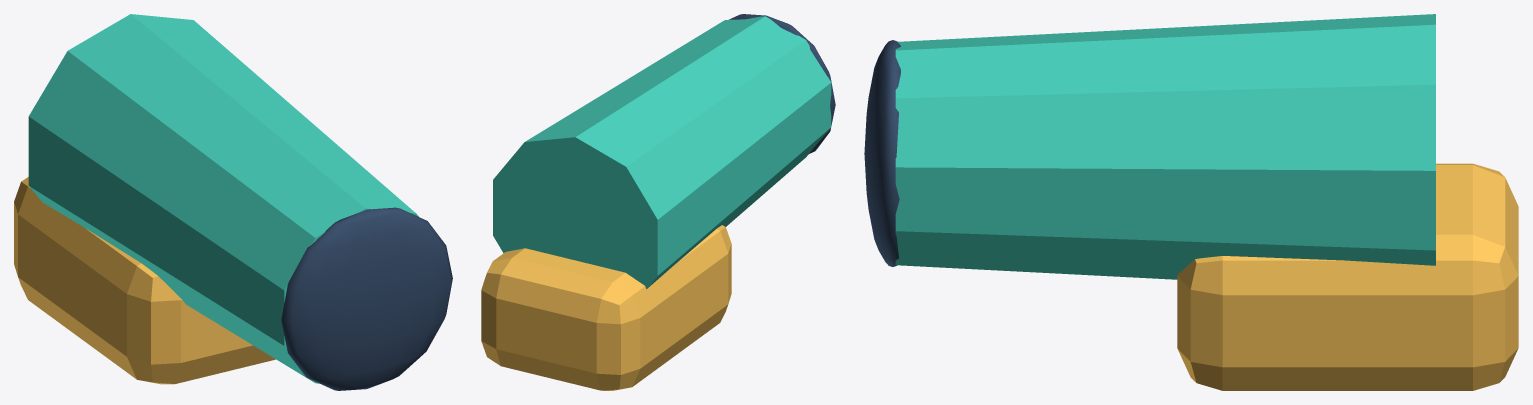
The model's file is cannon.glb.
The picture shows the model from 3 angles, left to right: view 1: azimuth 30°, elevation 25°; view 2: azimuth 150°, elevation 25°; view 3: azimuth 270°, elevation 25°; orthographic projection. The views are drawn at different scales.
Parts seen in each view (by area): view 1: Watermelon cannon, Cannon muzzle, Cannon mount; view 2: Watermelon cannon, Cannon mount, Cannon muzzle; view 3: Watermelon cannon, Cannon mount, Cannon muzzle.
Part boxes in pixels (left/top/right/bottom): Watermelon cannon: left=28, top=14, right=418, bottom=383; Cannon muzzle: left=281, top=207, right=452, bottom=390; Cannon mount: left=14, top=177, right=275, bottom=384; Watermelon cannon: left=493, top=16, right=831, bottom=288; Cannon mount: left=481, top=225, right=731, bottom=390; Cannon muzzle: left=729, top=14, right=835, bottom=153; Watermelon cannon: left=895, top=14, right=1435, bottom=279; Cannon mount: left=1177, top=163, right=1518, bottom=390; Cannon muzzle: left=864, top=40, right=900, bottom=266.
Bounding box in the file's own units: 0.4755 × 0.64 × 1.15.
